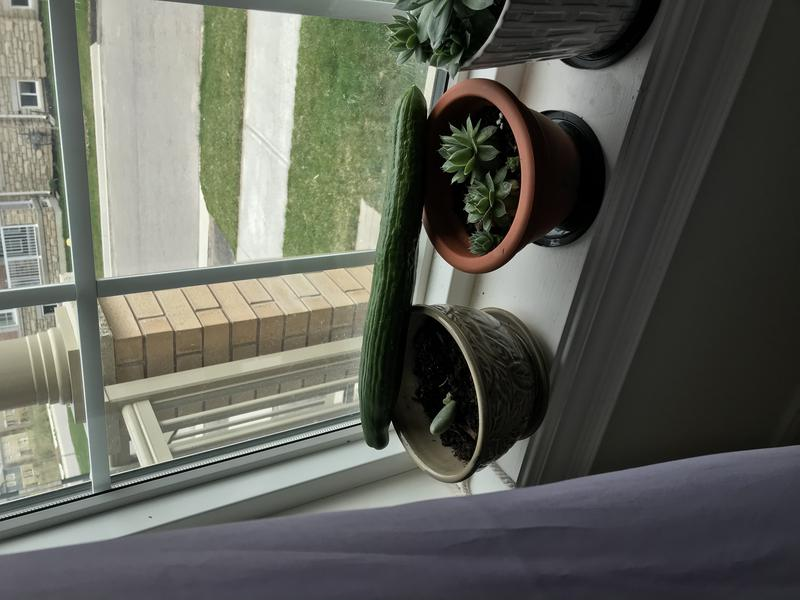cucumber: (345, 78, 432, 468)
